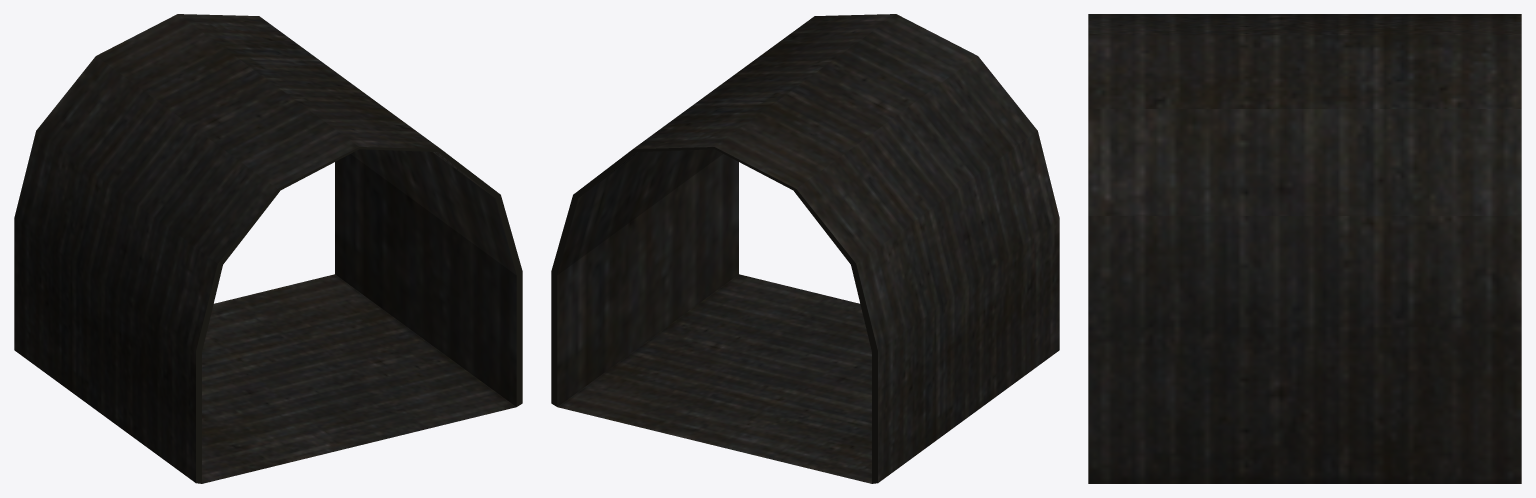
Rendered from MetalTunnel1.fbx.
3 renders of one model, left to right at view 1: azimuth 30°, elevation 25°; view 2: azimuth 150°, elevation 25°; view 3: azimuth 270°, elevation 25°, orthographic. The views are drawn at different scales.
Visible parts, largest first — view 1: tunnel_1; view 2: tunnel_1; view 3: tunnel_1.
Boxes of the visible parts, x1=… form: tunnel_1: x1=14, y1=14, x2=522, y2=483; tunnel_1: x1=551, y1=14, x2=1059, y2=483; tunnel_1: x1=1088, y1=14, x2=1521, y2=483.
Size of the model in its own units: 2.08 by 1.81 by 2.
